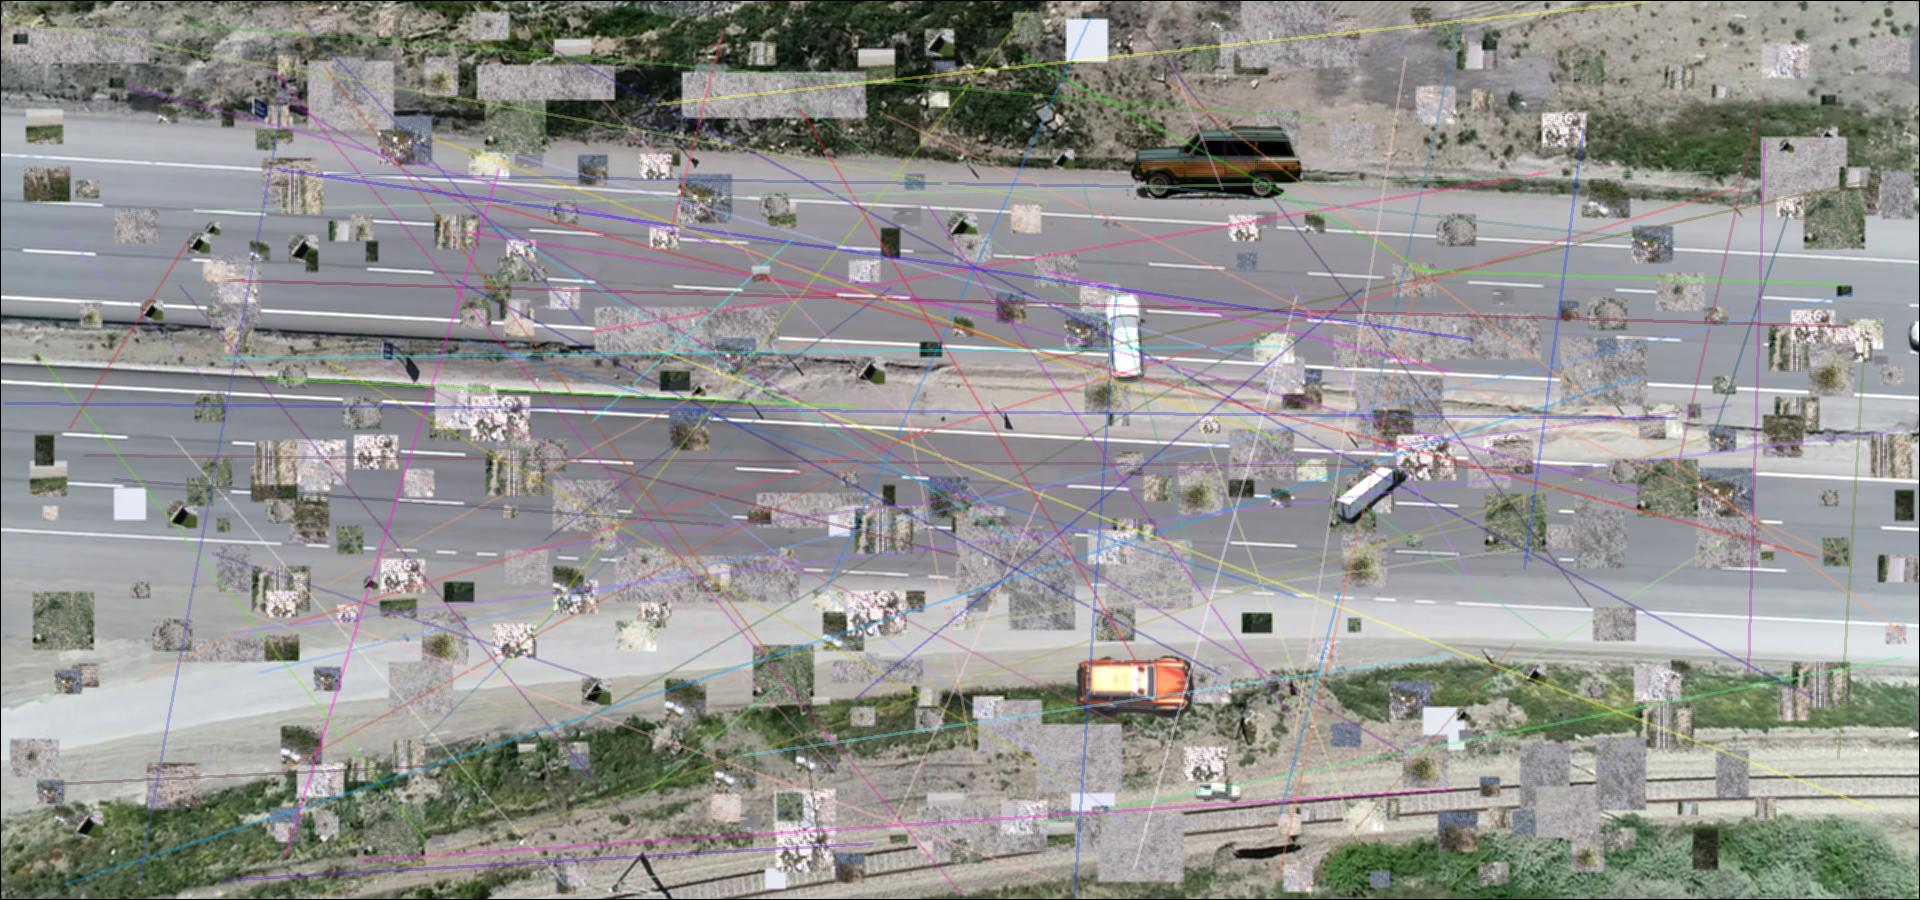arac: (1125, 124, 1307, 204), (1075, 655, 1200, 718), (1100, 291, 1150, 384), (1332, 464, 1407, 524), (1194, 781, 1243, 804)
